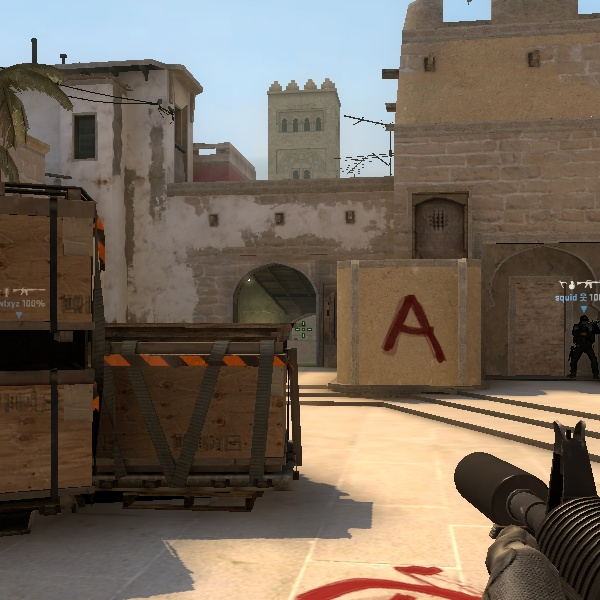ct_body: (562, 306, 598, 384)
ct_head: (577, 312, 592, 328)
